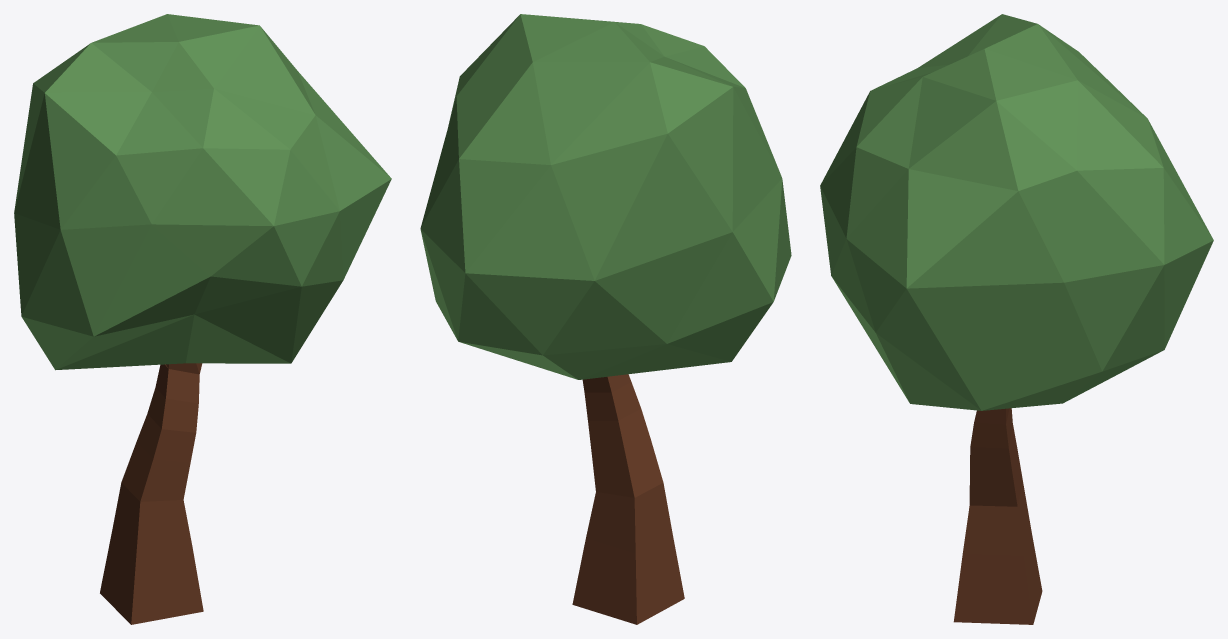
Rendered from GreenTree2.fbx.
3 views of the same model, side by side, from view 1: azimuth 30°, elevation 25°; view 2: azimuth 150°, elevation 25°; view 3: azimuth 270°, elevation 25° (orthographic).
Parts seen in each view (by area): view 1: LemonTree4.002; view 2: LemonTree4.002; view 3: LemonTree4.002.
Part boxes in pixels (x1=…): LemonTree4.002: x1=14, y1=14, x2=391, y2=624; LemonTree4.002: x1=420, y1=14, x2=791, y2=624; LemonTree4.002: x1=820, y1=14, x2=1213, y2=624.
Bounding box in the file's own units: 248 × 400 × 251.
